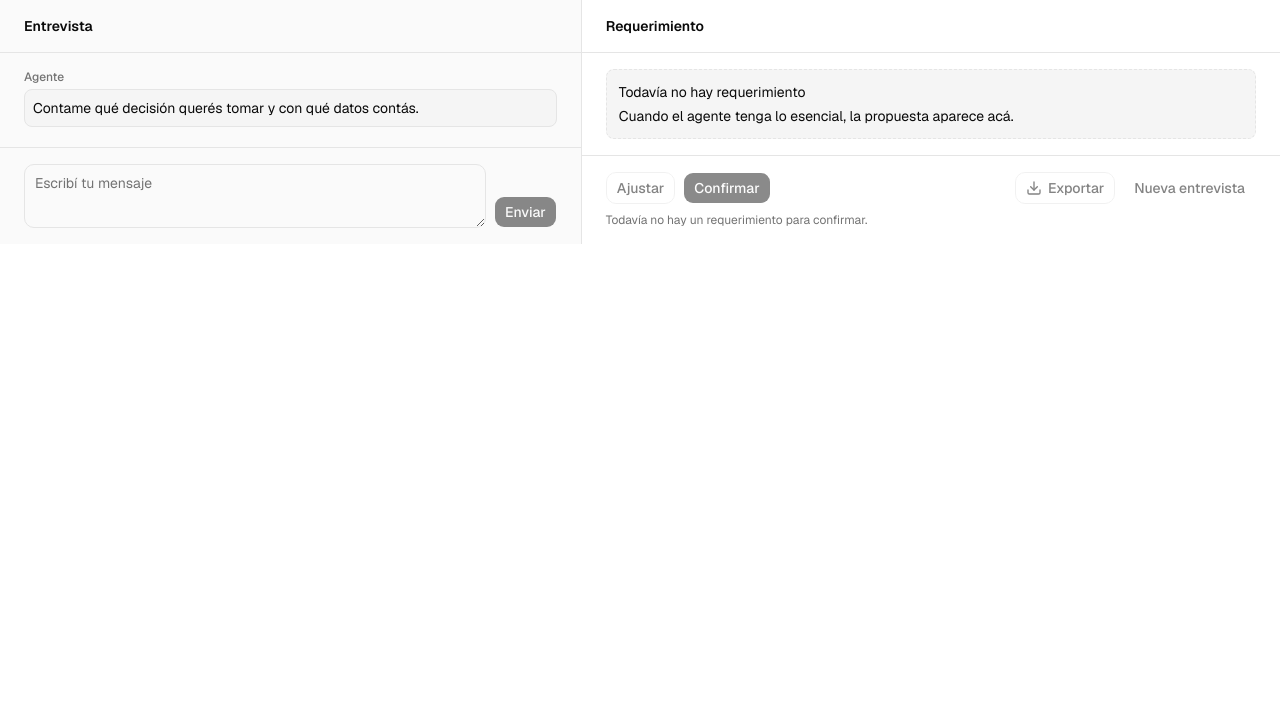
it: Composer › una propuesta en la respuesta agrega una versión al panel y se anuncia
Check: the element named "Conversación" is shown, box [0, 53, 581, 147]
Type "Planteo" into the text box.
click(255, 196); type("Planteo")  # box [24, 164, 486, 228]
Then press Enter
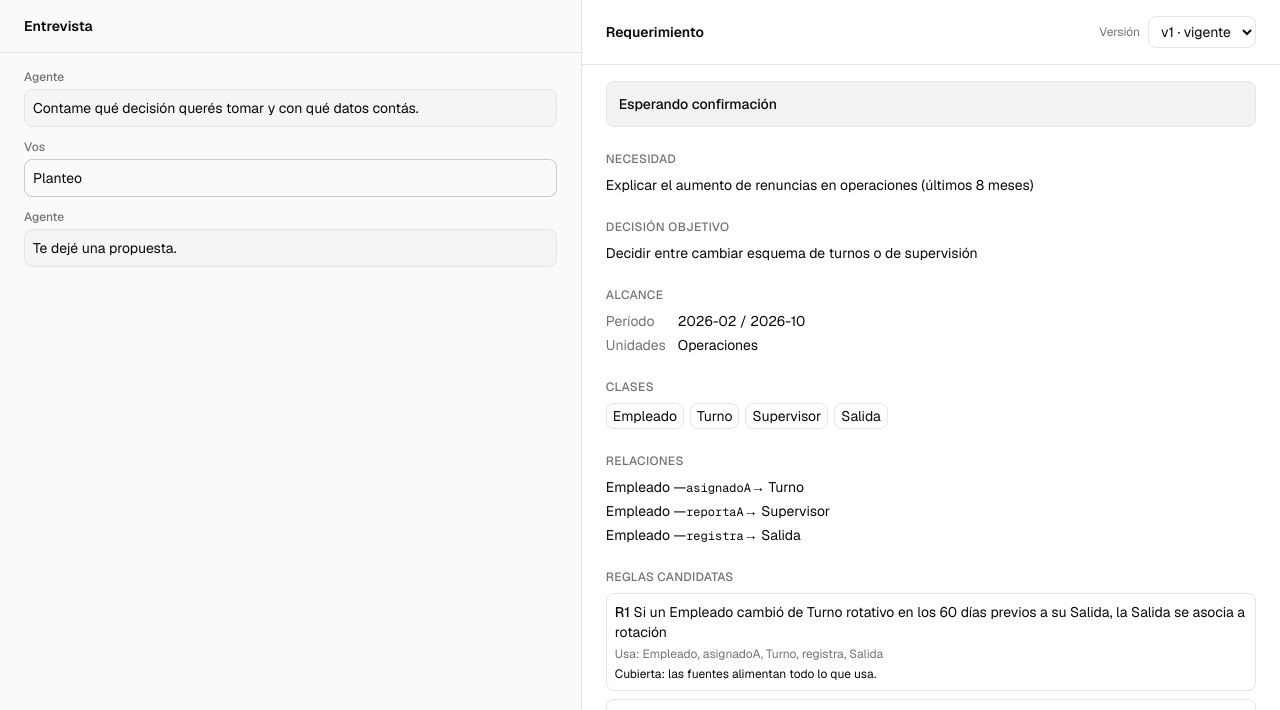
Check: the text "Te dejé una propuesta." is shown, box [33, 239, 177, 257]
Check: the dropdown labelled "Versión" shows "v1 · vigente", box [1148, 16, 1256, 48]
